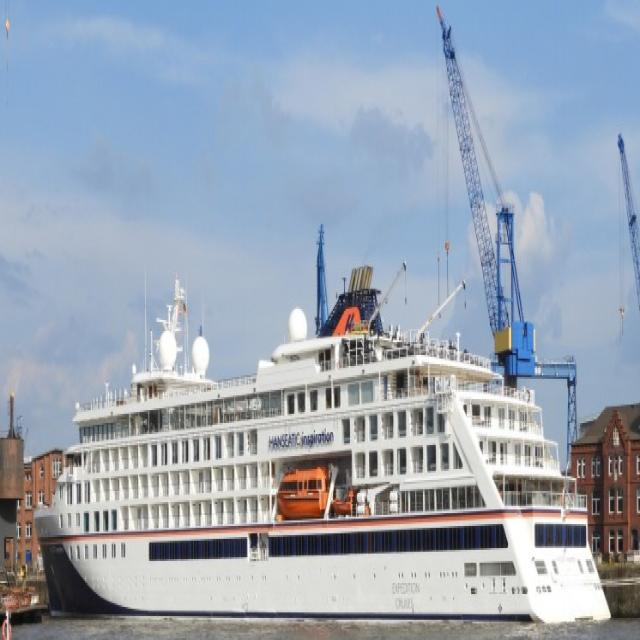cruises: (34, 275, 618, 640)
